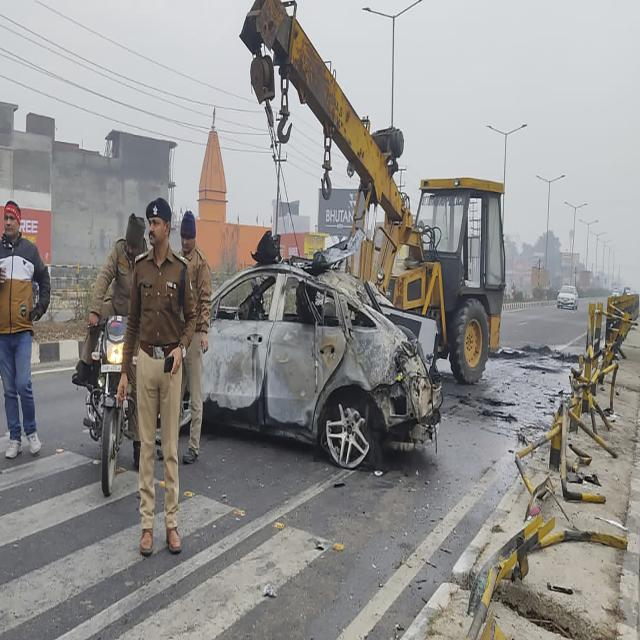accident: (202, 262, 442, 467)
motorcycle: (72, 214, 146, 496)
truck: (241, 0, 505, 383)
